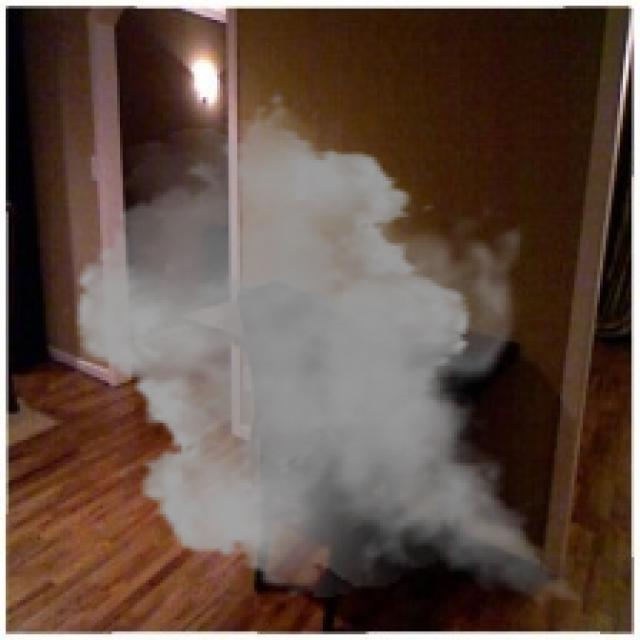Smoke: (59, 92, 612, 618)
